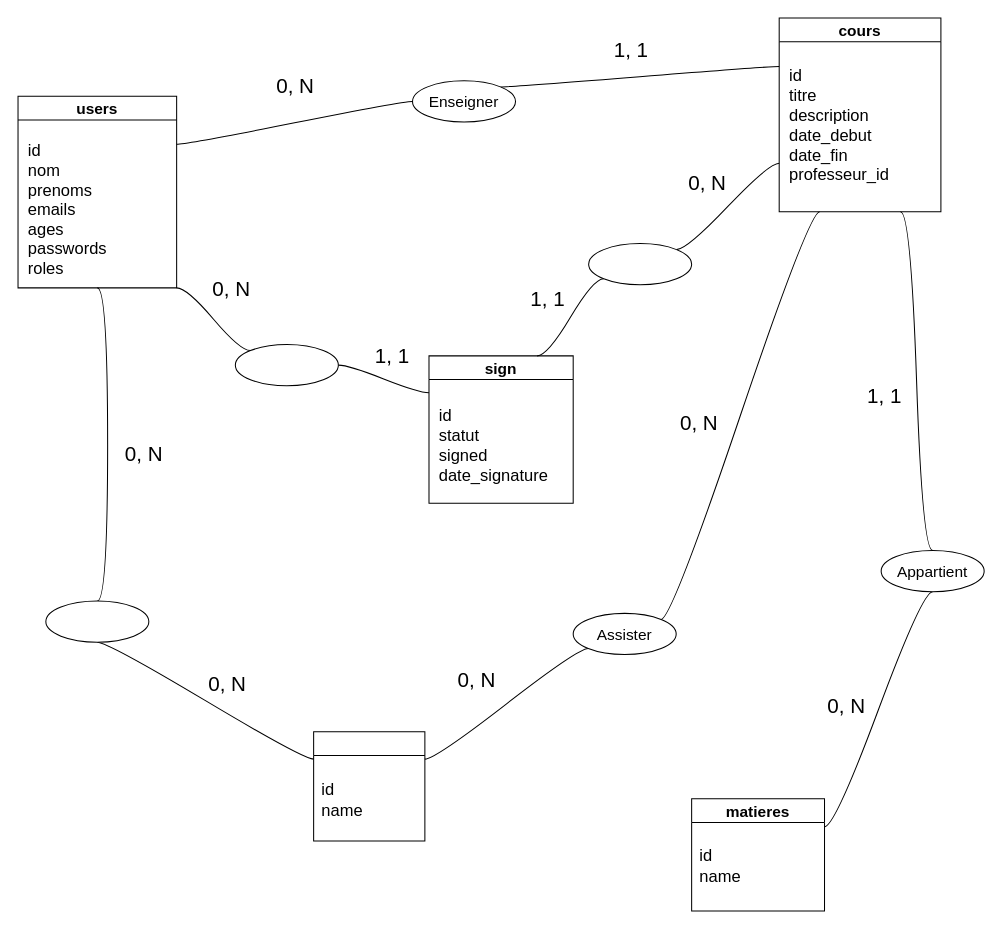
Image size: 1002x929. Some labels were removed from this diagram. The box of each missing label's shape, as (x1, y1, x2, y2) in pixels:
Affecter: (45, 600, 149, 642)
classes: (313, 731, 425, 841)
Signer: (234, 344, 338, 386)
Vérifier: (588, 243, 692, 285)
